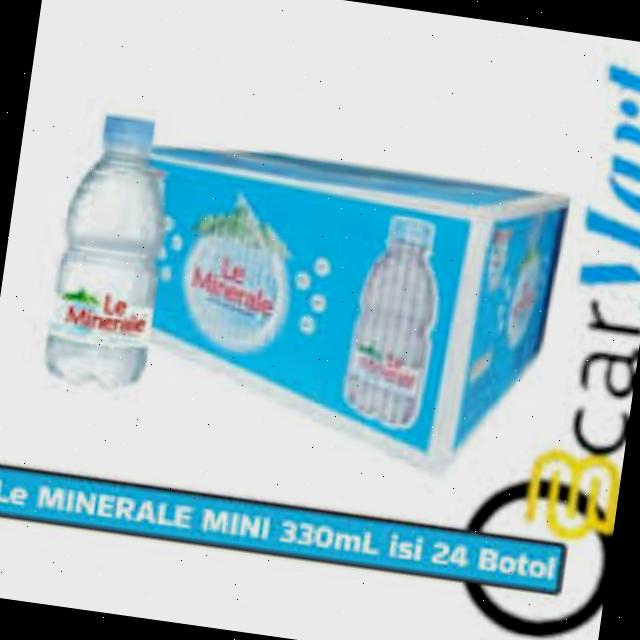trash: (39, 110, 184, 397)
